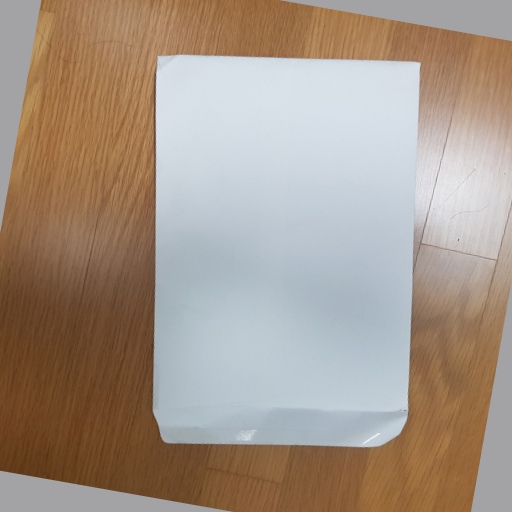Paper_2: (144, 48, 420, 459)
